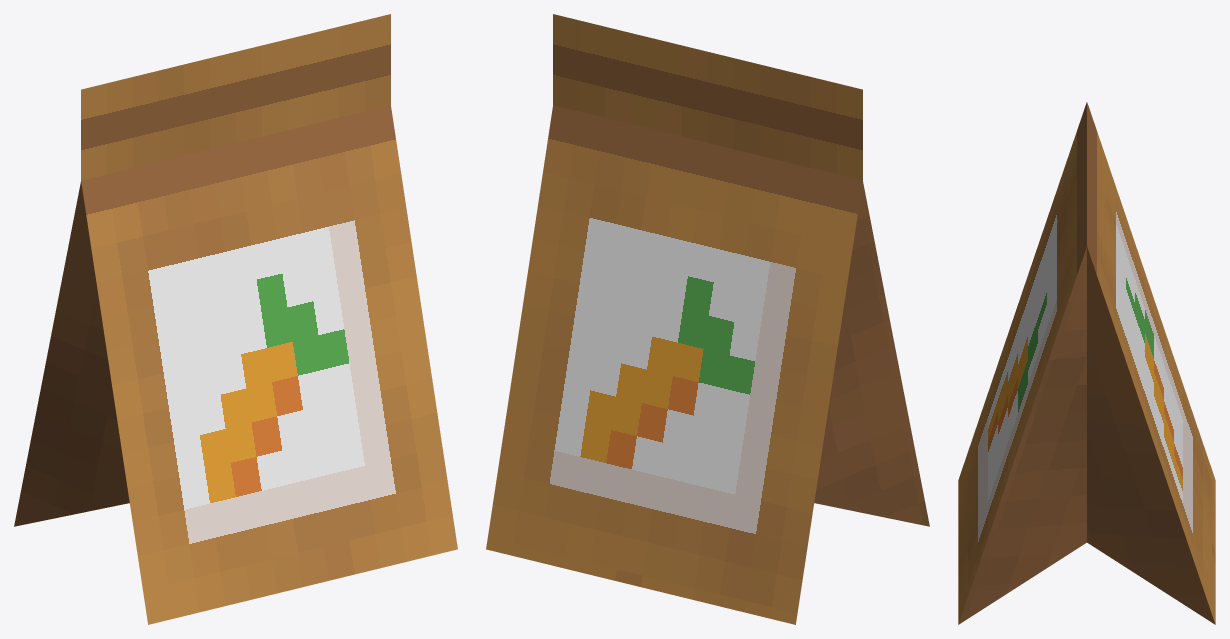
The model's file is carrot_seeds-optimized.glb.
3 views of the same model, side by side, from view 1: azimuth 30°, elevation 25°; view 2: azimuth 150°, elevation 25°; view 3: azimuth 270°, elevation 25° (orthographic). The views are drawn at different scales.
Visible parts, largest first — view 1: cuboid; view 2: cuboid; view 3: cuboid.
Part boxes in pixels (box(x1,y1,x2,y2)): cuboid: box(14, 14, 457, 624); cuboid: box(486, 14, 929, 624); cuboid: box(958, 102, 1215, 624).
Bounding box in the file's own units: 0.5 × 0.75 × 0.375.
Materials: 1 (1 with a texture image).
